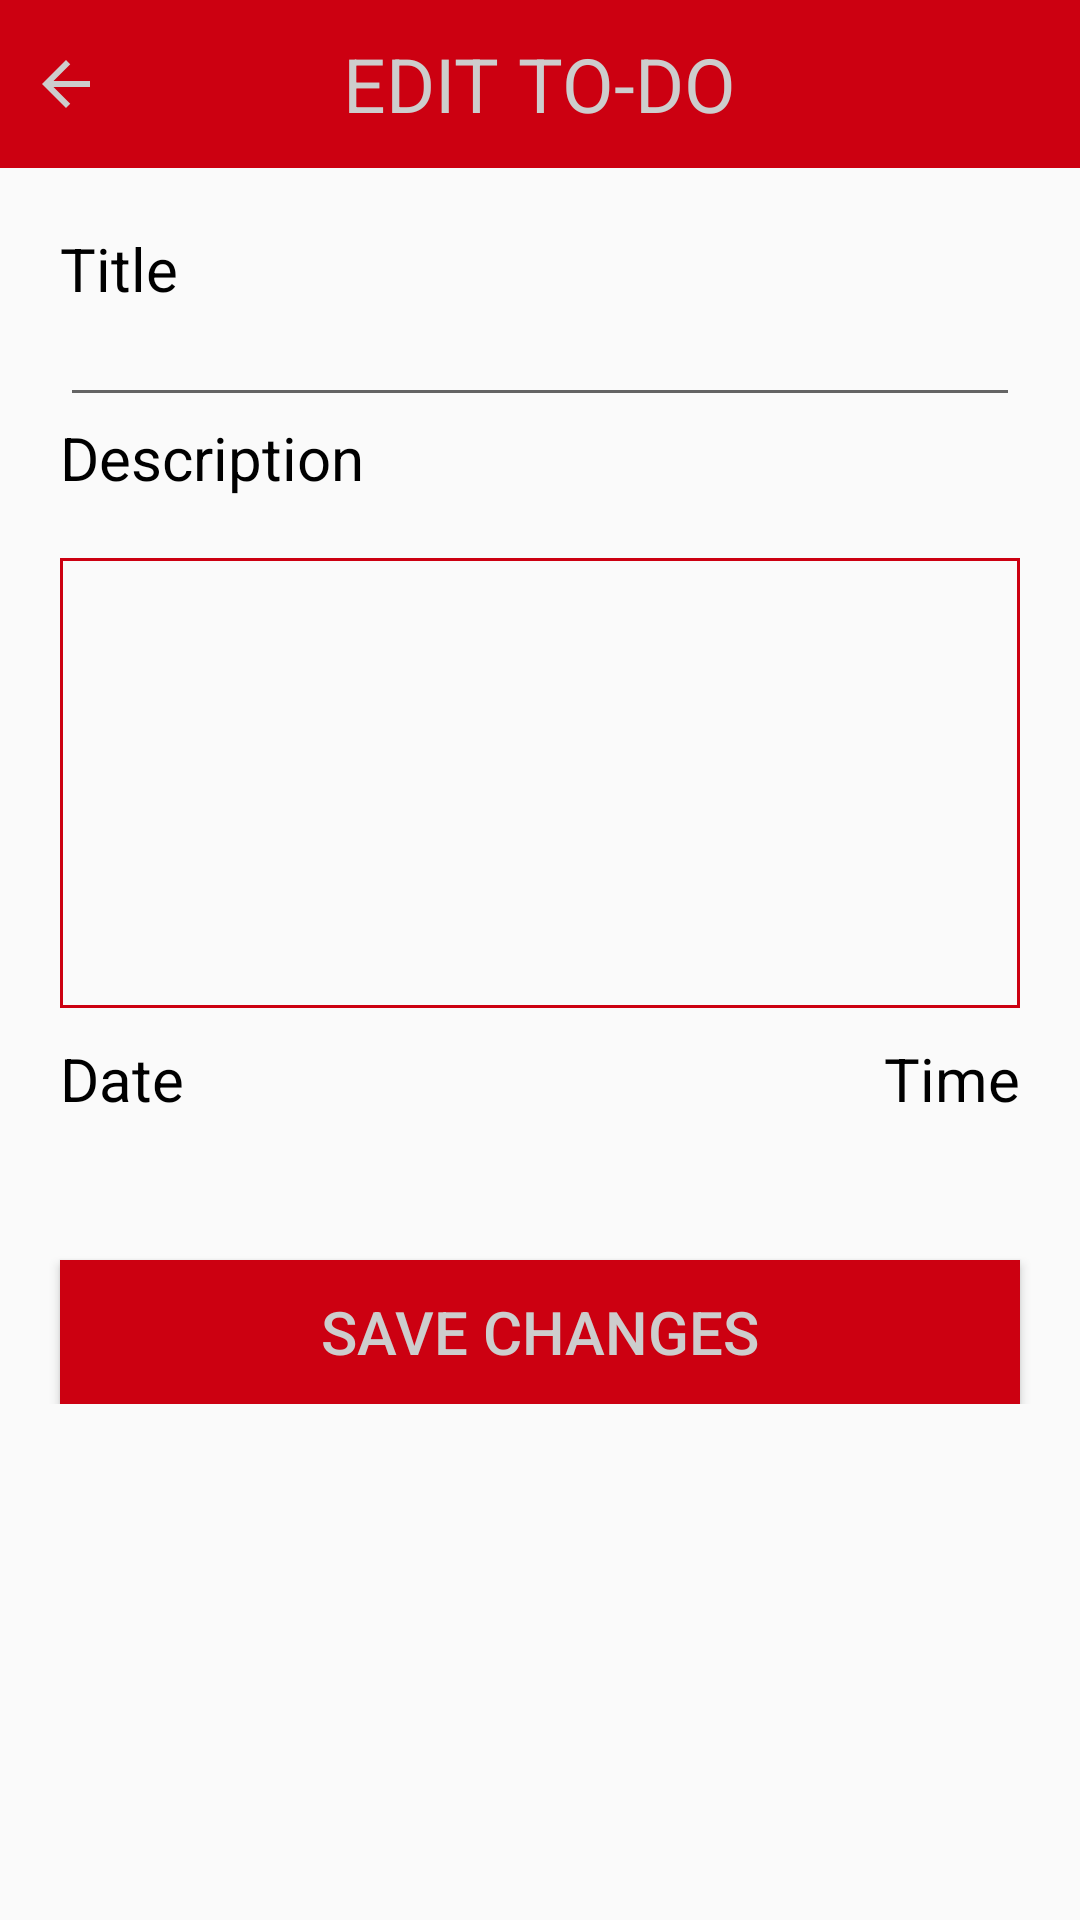

Screen size 1080x1920. Icon name, then its box in pixels as detection(x1, y1, x2, y2):
back: detection(42, 60, 90, 108)
